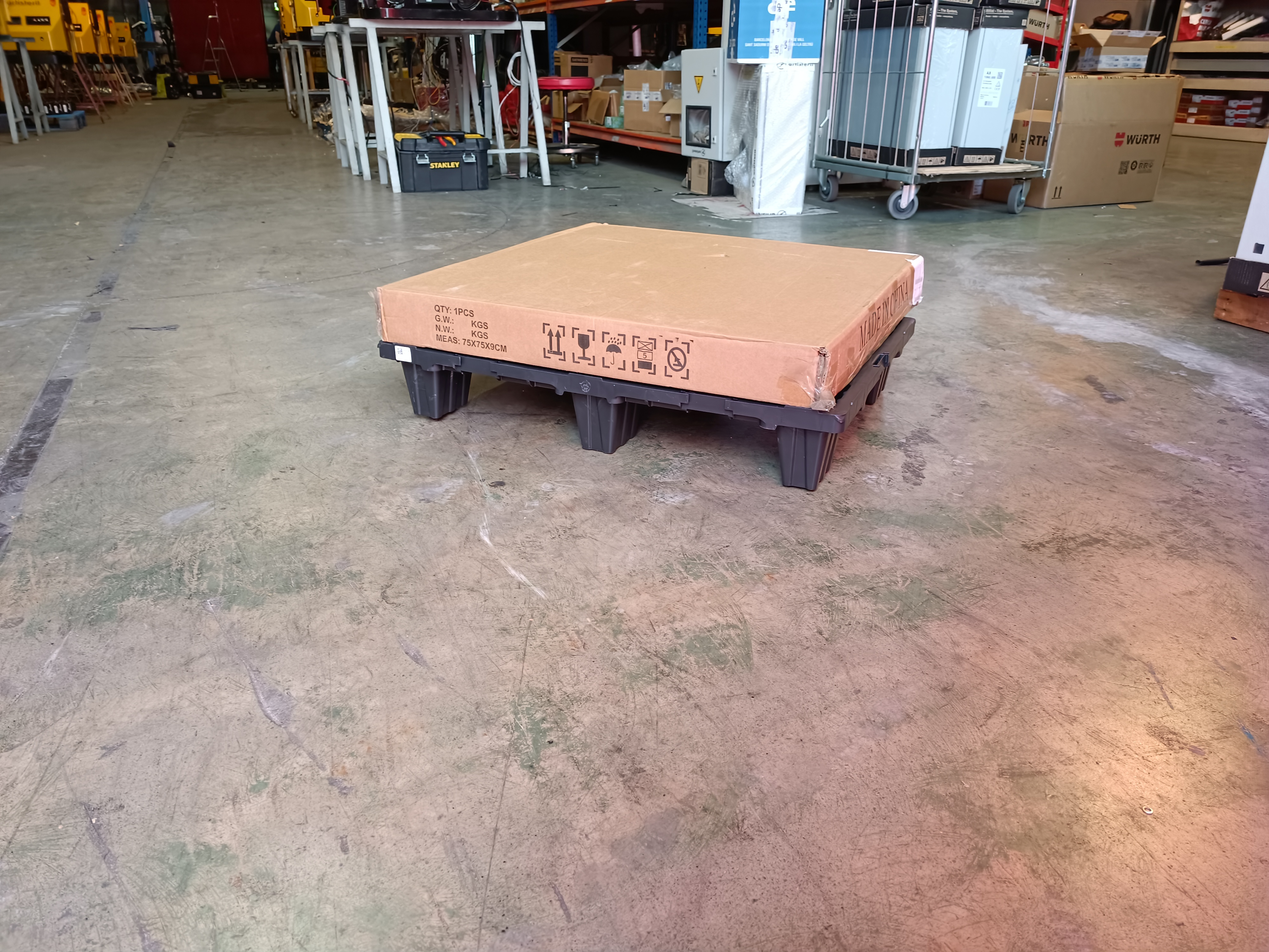block: (385, 349, 470, 428), (766, 410, 840, 491), (571, 378, 621, 457)
front: (377, 340, 850, 501)
hole pallet: (617, 403, 783, 483), (440, 373, 584, 447)
